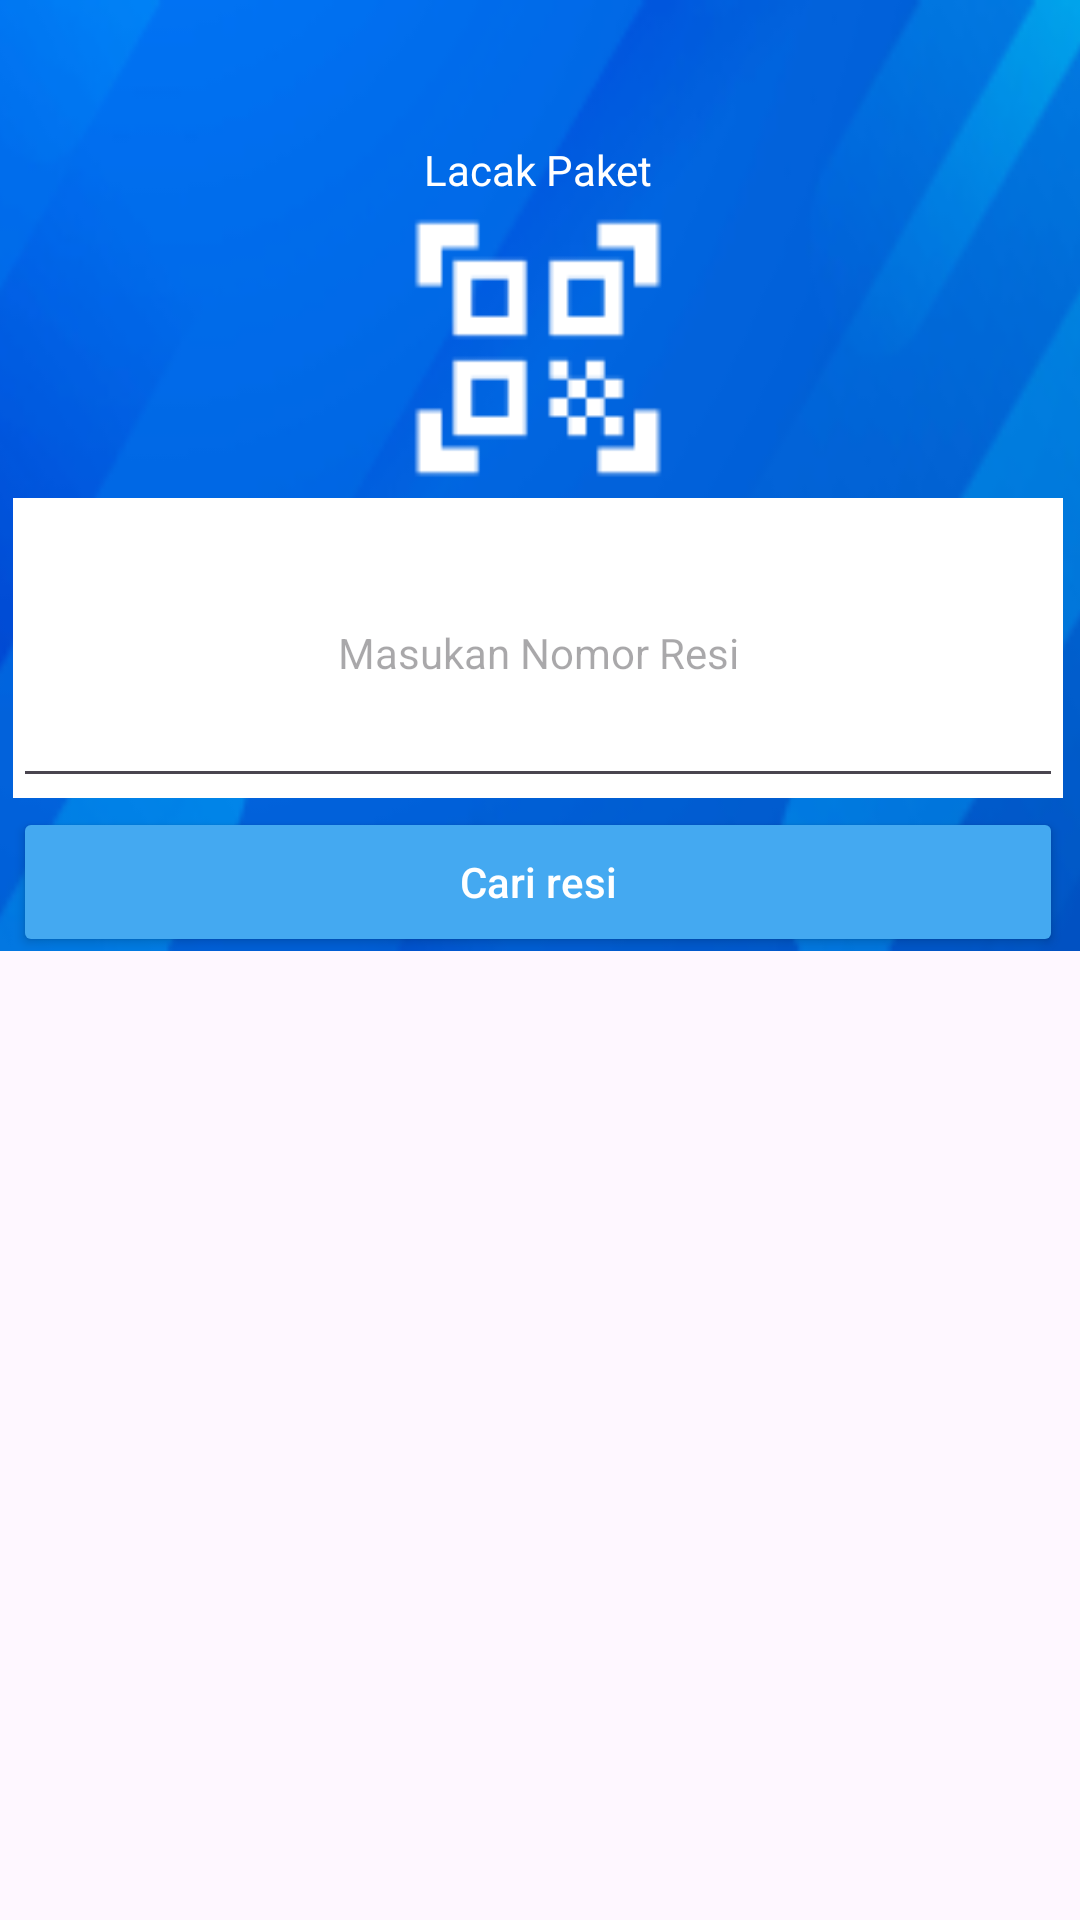

Named icons in this screenshot (1080px×1920px) and their centers, (x=x, y=y):
qr code scanner: (x=538, y=348)
